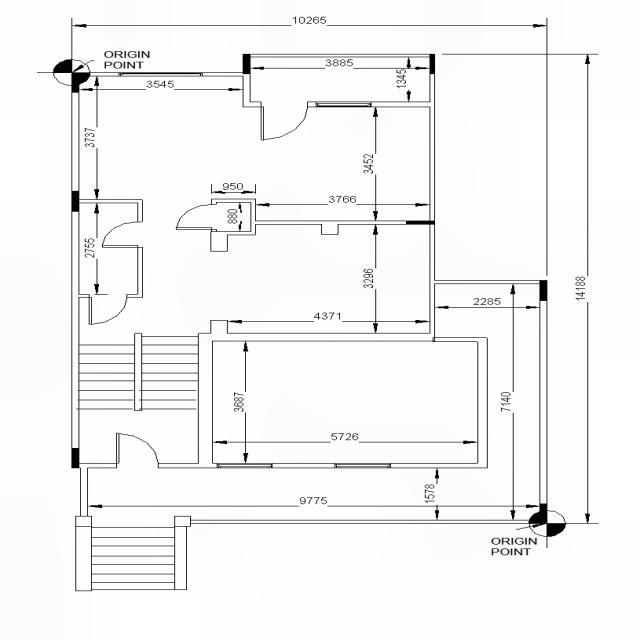Column: (72, 190, 80, 212), (540, 280, 548, 301), (72, 72, 80, 92), (242, 54, 250, 74), (540, 504, 548, 524), (72, 448, 80, 468), (430, 54, 436, 74), (406, 220, 435, 224)
Door: (261, 102, 308, 140), (116, 432, 159, 468), (89, 294, 128, 325), (175, 204, 217, 232), (102, 222, 143, 248)
Staircase: (79, 298, 198, 463), (92, 468, 175, 590)
Window: (316, 101, 372, 108), (119, 72, 202, 76), (334, 463, 392, 468), (216, 463, 272, 468)
